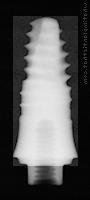DENTSPLY: (8, 15, 78, 167)
